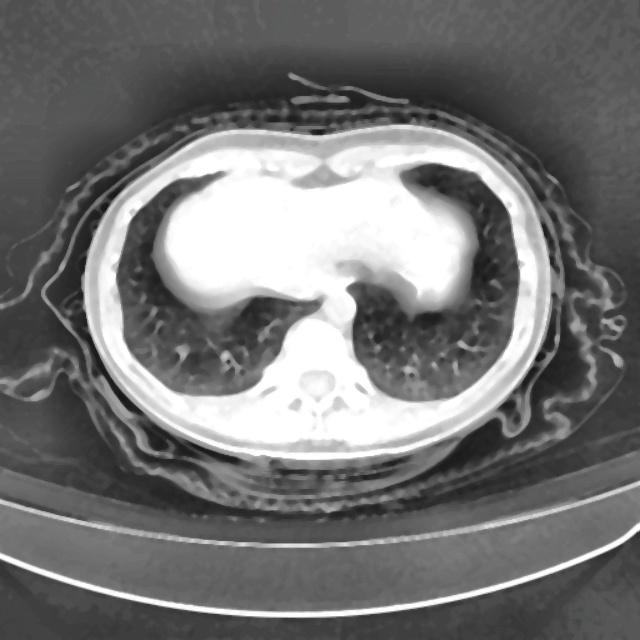covid: (82, 123, 552, 466)
